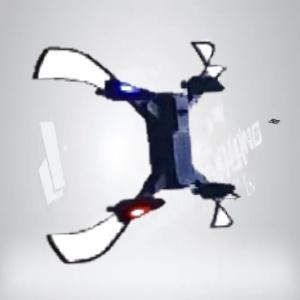drone: (22, 41, 246, 265)
